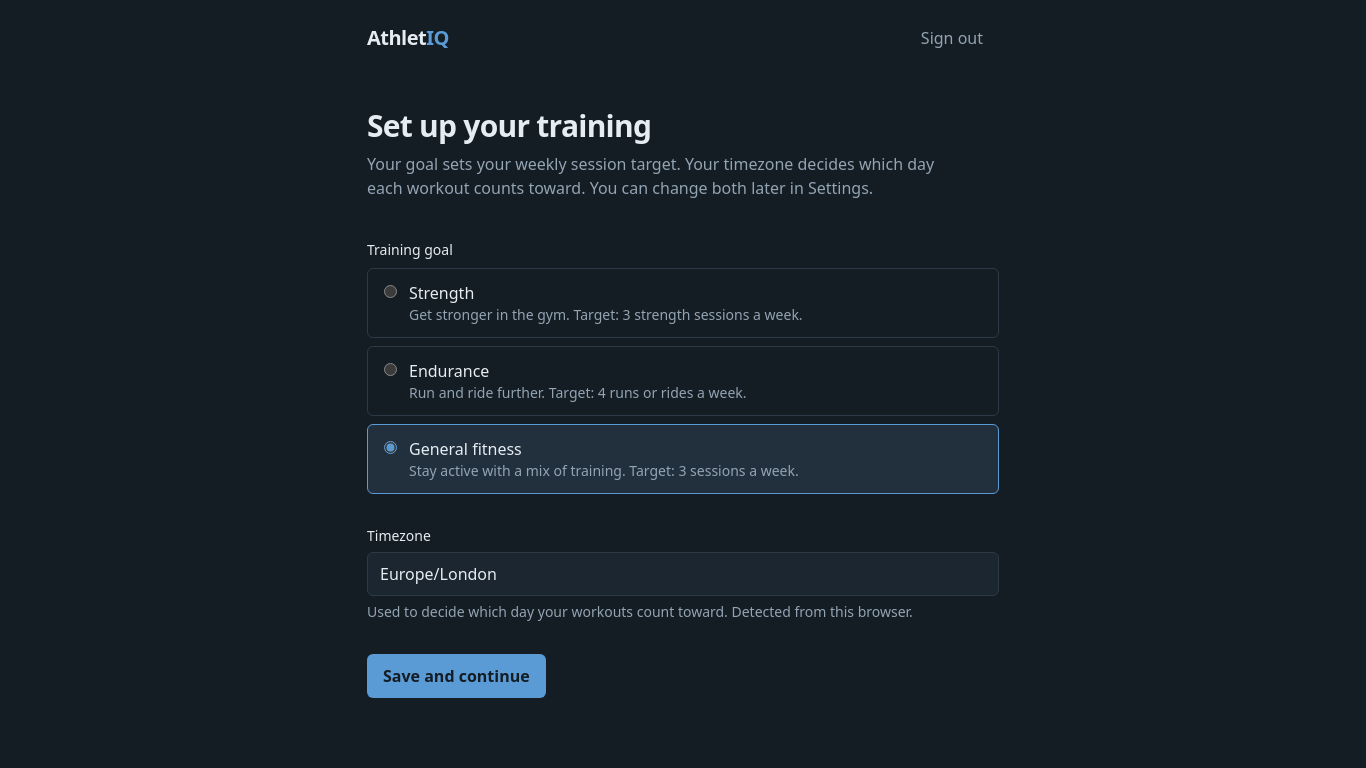
Test: OnboardingPage › saves the chosen goal and timezone, then goes to the app
Expected: the heading "Set up your training" is shown, x1=367 y1=105 x2=651 y2=146
Click the radio button labelled "Endurance". click: (390, 370)
box: x1=384 y1=363 x2=397 y2=376
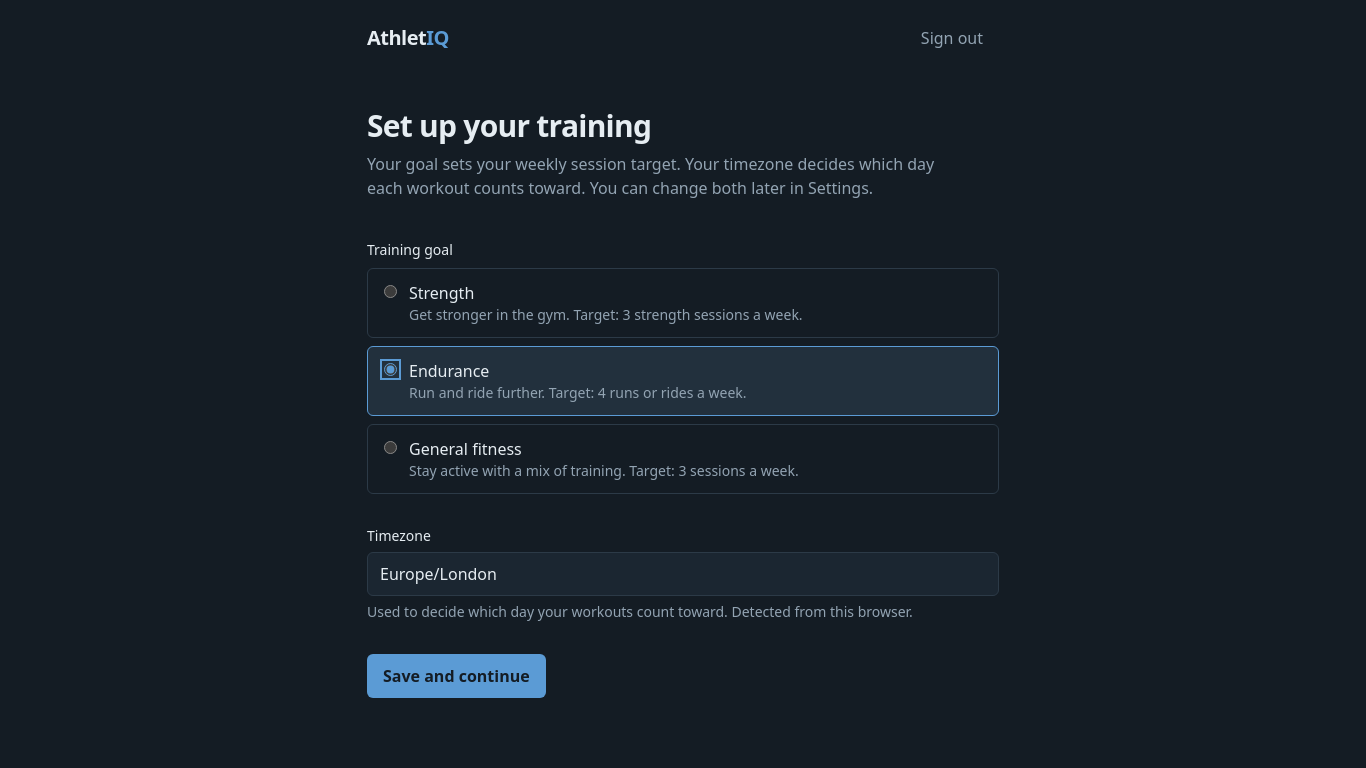
Click the button "Save and continue". click: (456, 676)
box: x1=367 y1=654 x2=546 y2=698
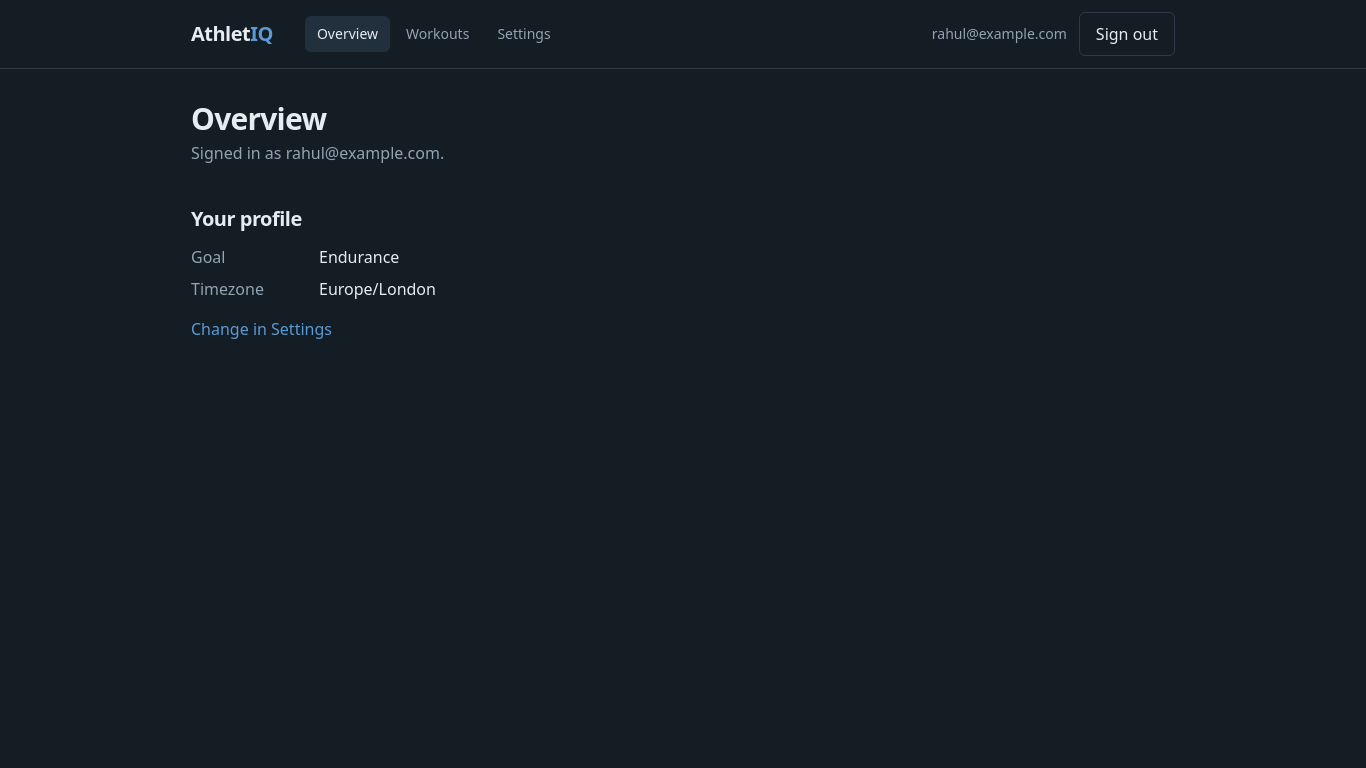
Expected: the text "Endurance" is shown, x1=319 y1=246 x2=399 y2=268
Result: the heading "Overview" is shown at x1=191 y1=98 x2=326 y2=139
